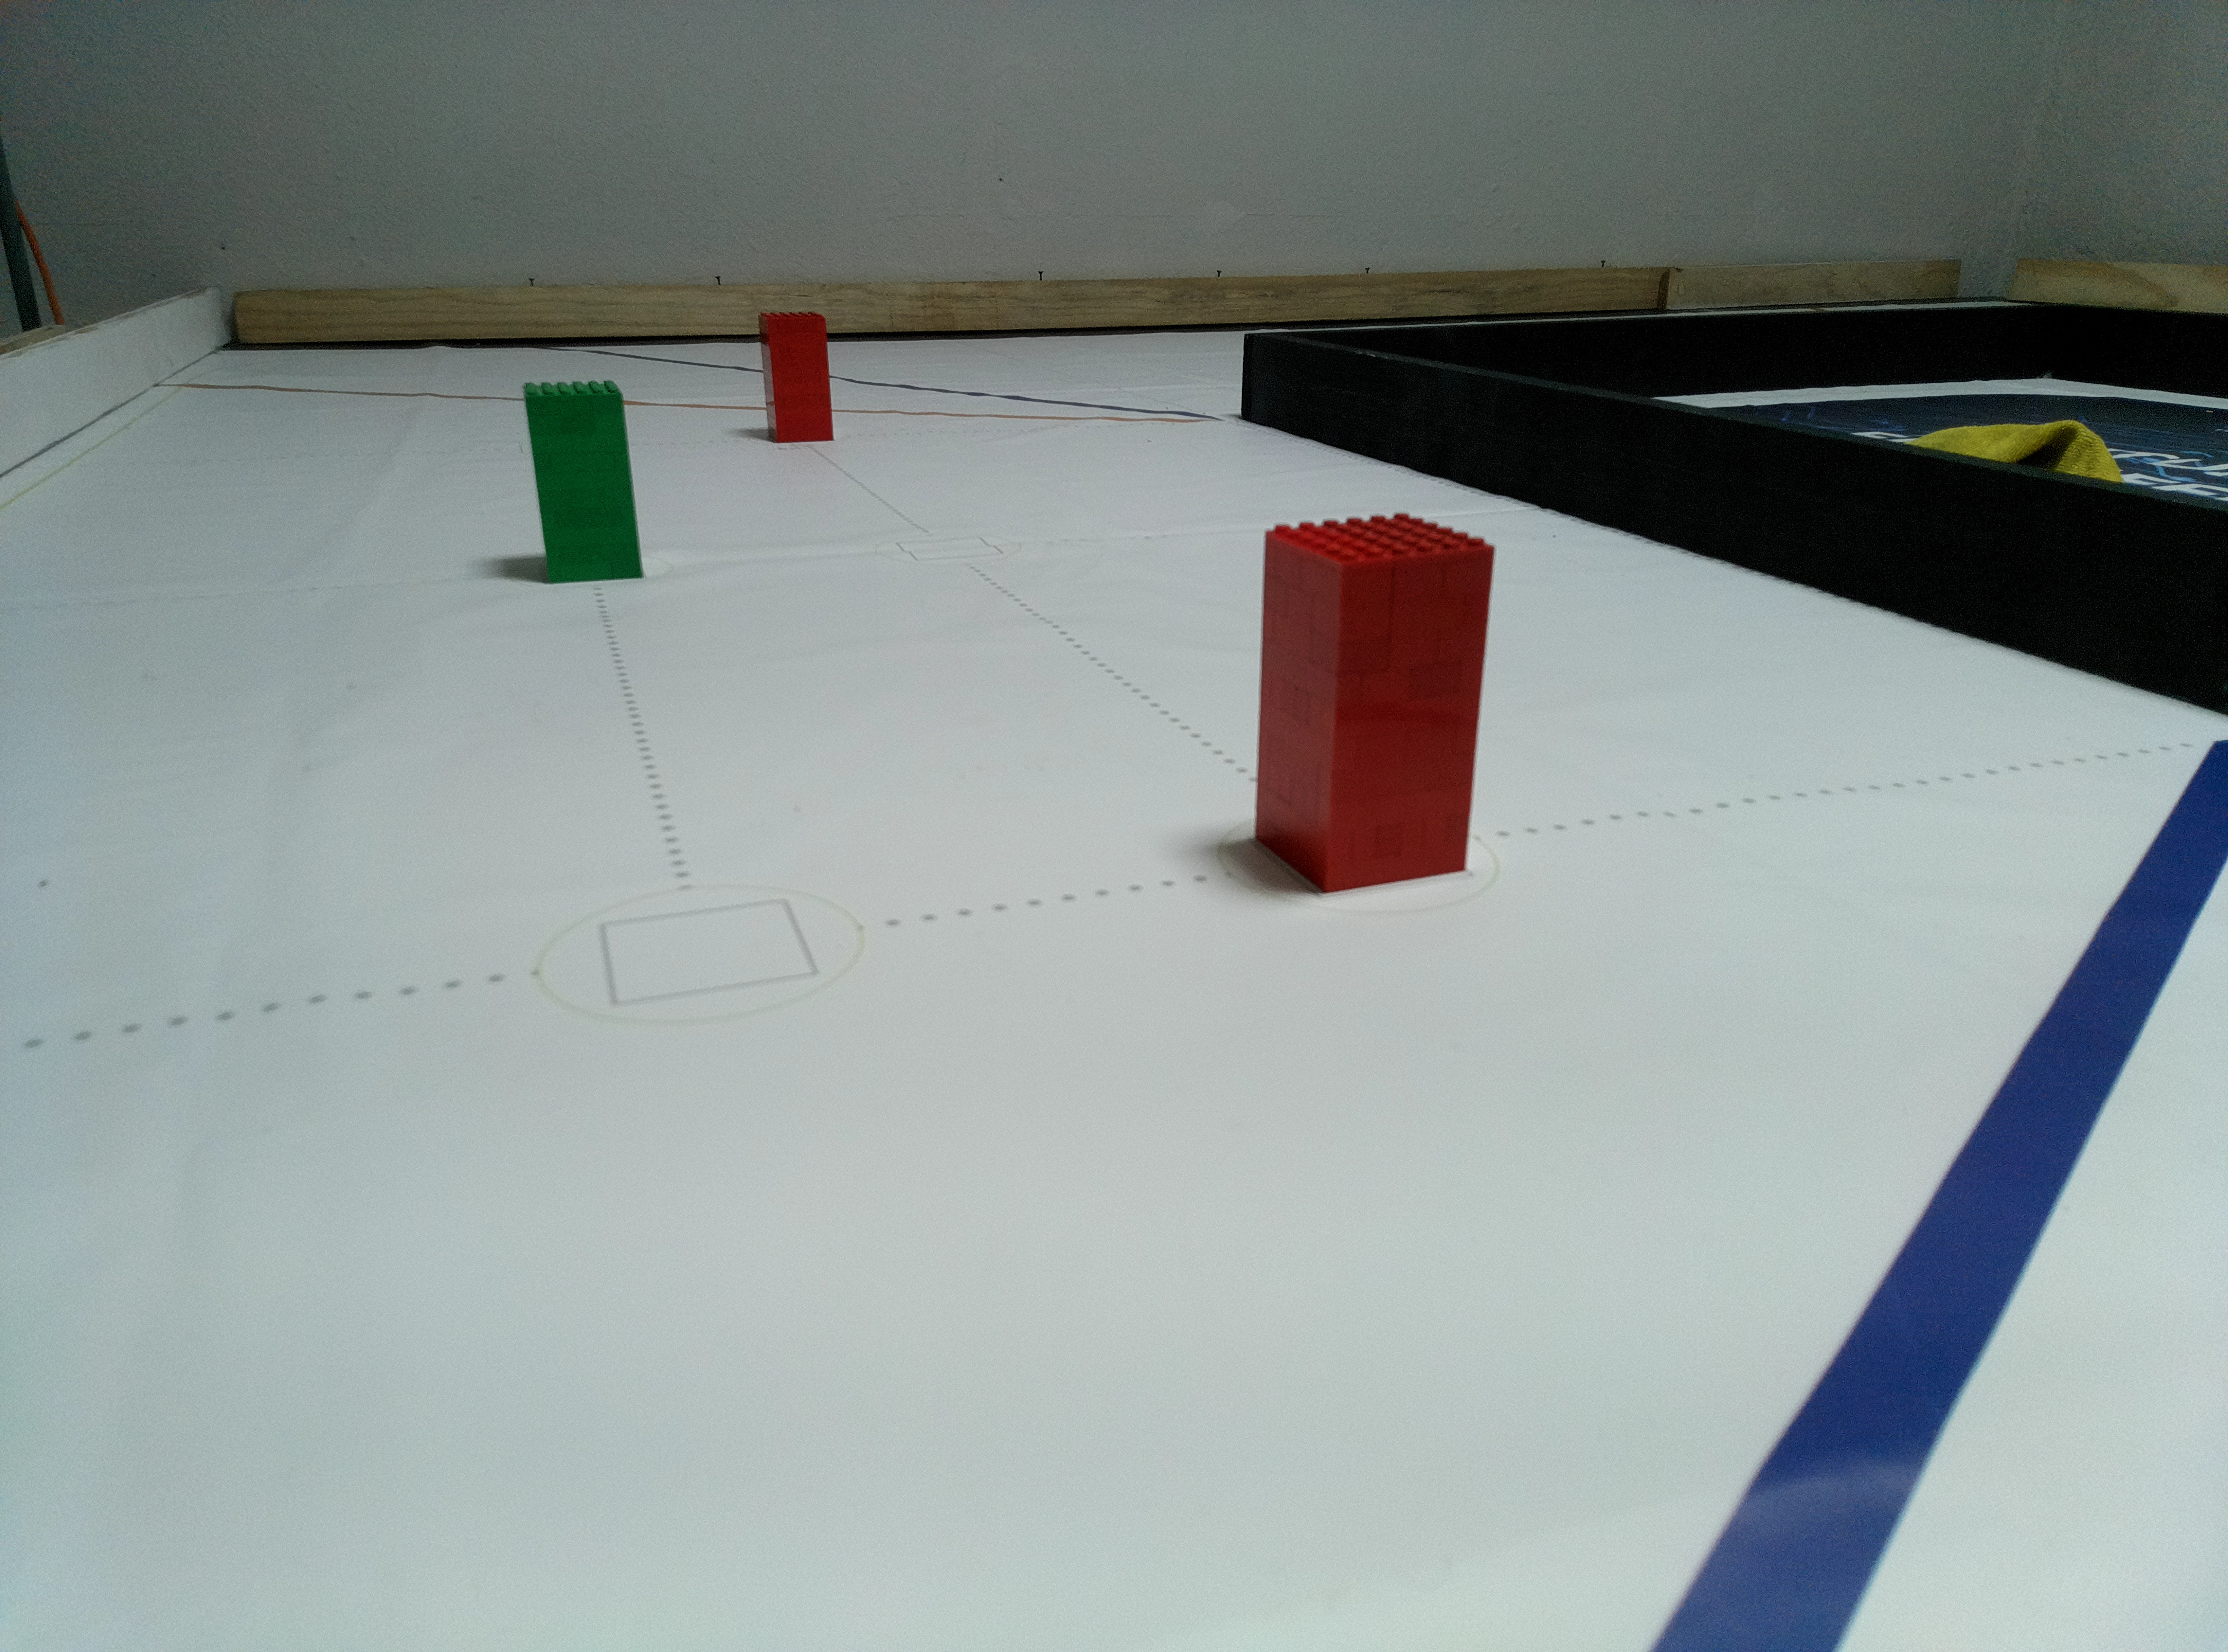greenbox: (515, 378, 645, 588)
redbox: (1253, 512, 1496, 894), (755, 311, 835, 442)
